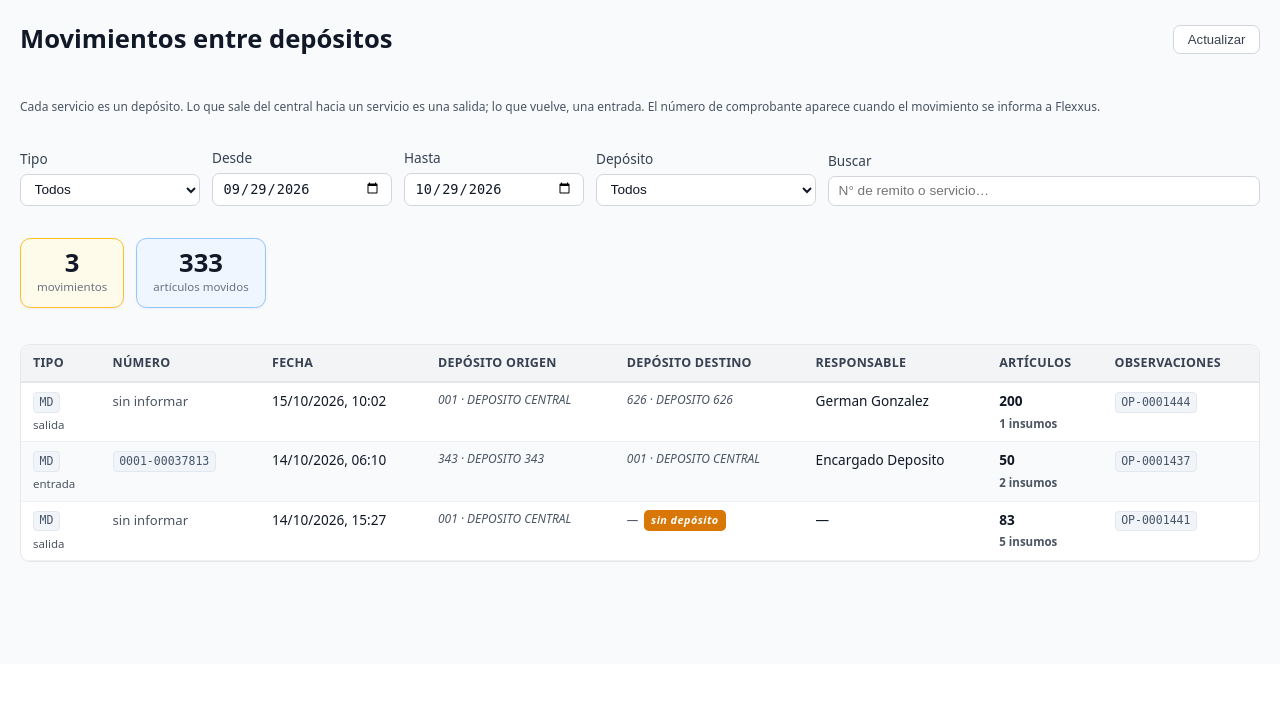
Movimientos entre depósitos › al abrir una fila trae su detalle
Click the text "OP-0001444" at [640, 412], box 21,382 -> 1259,442
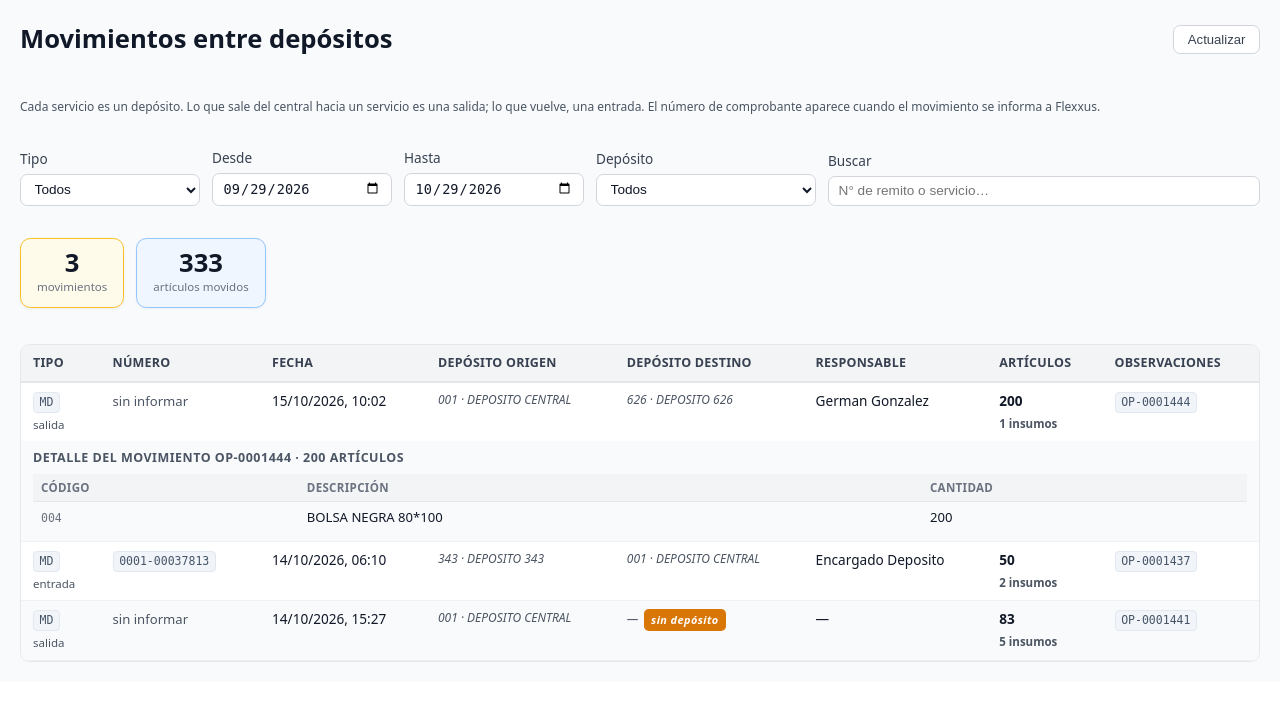
Check: the text "BOLSA NEGRA 80*100" is shown, box 299,502 -> 922,533
Check: the text "Detalle del movimiento OP-0001444 · 200 artículos" is shown, box 33,449 -> 404,466
